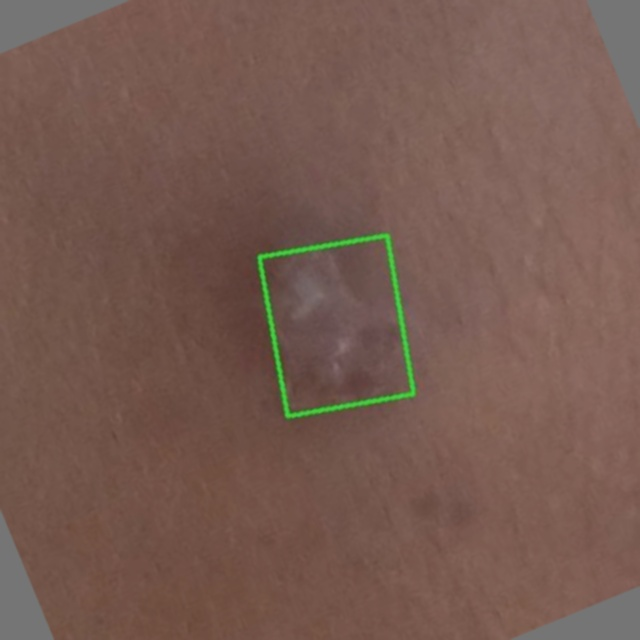Contact Dermatitis: (258, 234, 413, 416)
